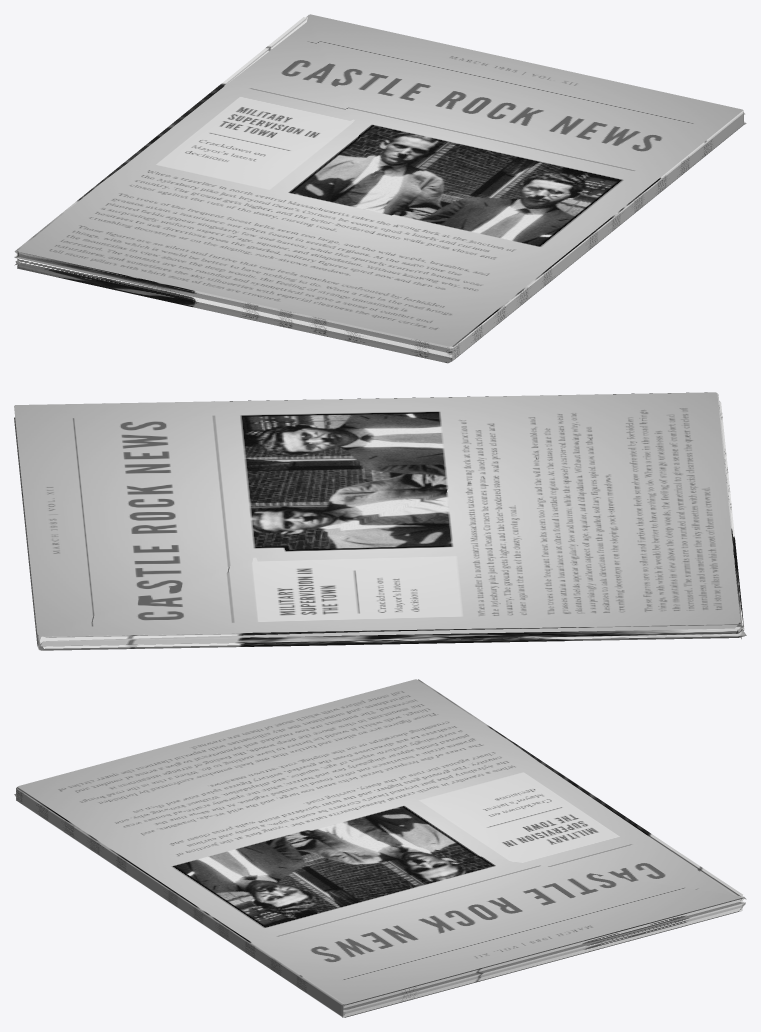
File: Newspaper.glb
3 views of the same model, one above another, from view 1: azimuth 30°, elevation 25°; view 2: azimuth 150°, elevation 25°; view 3: azimuth 270°, elevation 25° (orthographic). The views are drawn at different scales.
Parts seen in each view (by area): view 1: Newspaper; view 2: Newspaper; view 3: Newspaper.
Boxes of the visible parts, x1=… form: Newspaper: x1=14, y1=14, x2=746, y2=363; Newspaper: x1=14, y1=392, x2=746, y2=650; Newspaper: x1=14, y1=679, x2=746, y2=1017.
Bounding box in the file's own units: 10.02 × 0.2277 × 9.46.
1 material, 1 textured.
